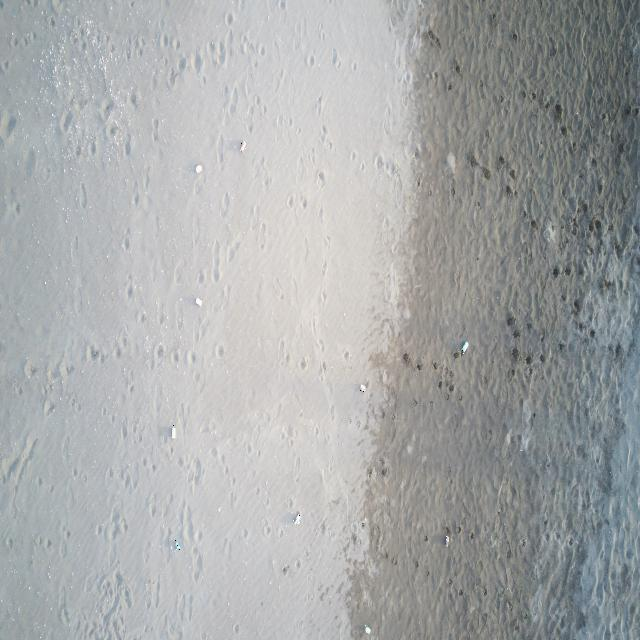Garbage: (292, 512, 300, 524), (460, 340, 467, 353), (173, 539, 180, 550), (239, 140, 246, 151), (364, 624, 371, 633), (195, 296, 201, 306), (195, 163, 201, 173), (172, 424, 176, 439), (360, 384, 366, 392), (444, 535, 447, 546)
